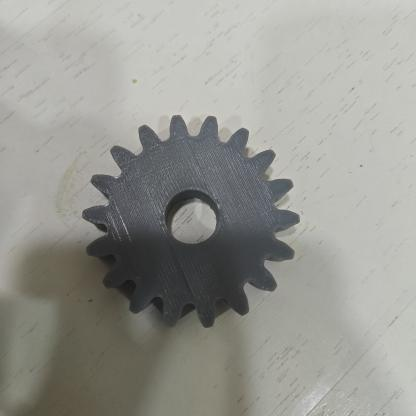gear: (82, 115, 300, 327)
